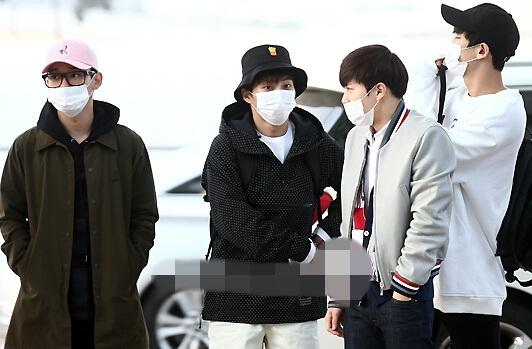OK: (255, 74, 296, 127), (446, 26, 475, 78)
WRONG: (47, 64, 93, 114), (342, 71, 375, 124)
